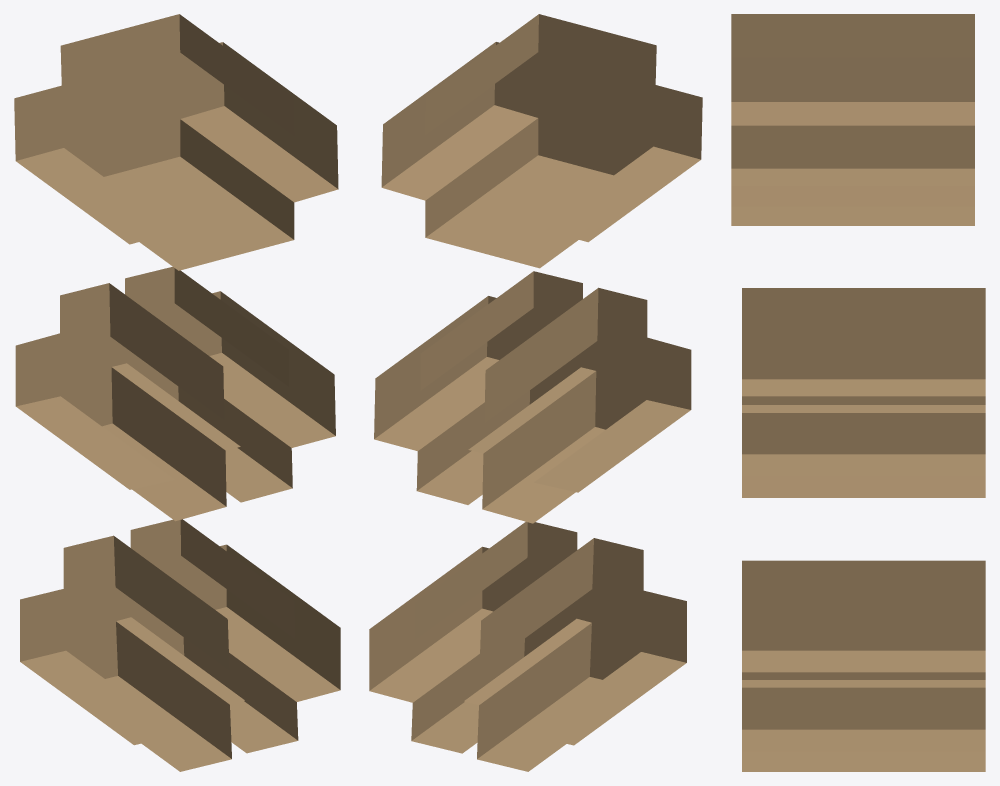
The picture shows the model from 3 angles, left to right: view 1: azimuth 30°, elevation 25°; view 2: azimuth 150°, elevation 25°; view 3: azimuth 270°, elevation 25°; orthographic projection. The views are drawn at different scales.
Visible parts, largest first — view 1: 0_0_1_2_0_0_1_1; view 2: 0_0_1_2_0_0_1_1; view 3: 0_0_1_2_0_0_1_1.
Boxes of the visible parts, x1,y1,x2,y2 form: 0_0_1_2_0_0_1_1: (14, 14, 340, 771); 0_0_1_2_0_0_1_1: (369, 14, 702, 771); 0_0_1_2_0_0_1_1: (731, 14, 985, 771).
Size of the model in its own units: 29.75 by 85.15 by 28.2.
